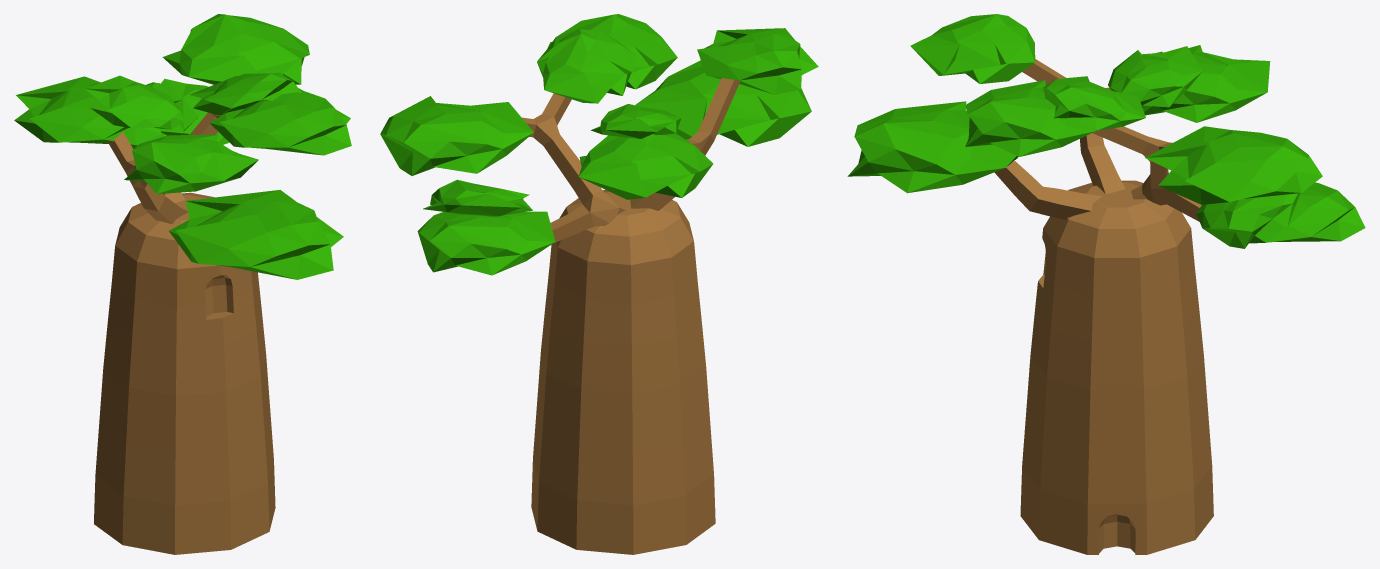
Rendered from LV2Tree with hole.glb.
3 renders of one model, left to right at view 1: azimuth 30°, elevation 25°; view 2: azimuth 150°, elevation 25°; view 3: azimuth 270°, elevation 25°, orthographic. The views are drawn at different scales.
Visible parts, largest first — view 1: Cube; view 2: Cube; view 3: Cube.
Part boxes in pixels (x1,y1,x2,y2): Cube: (14,14,351,554); Cube: (380,14,818,554); Cube: (847,14,1365,554).
Size of the model in its own units: 8.55 by 12.26 by 12.48.
